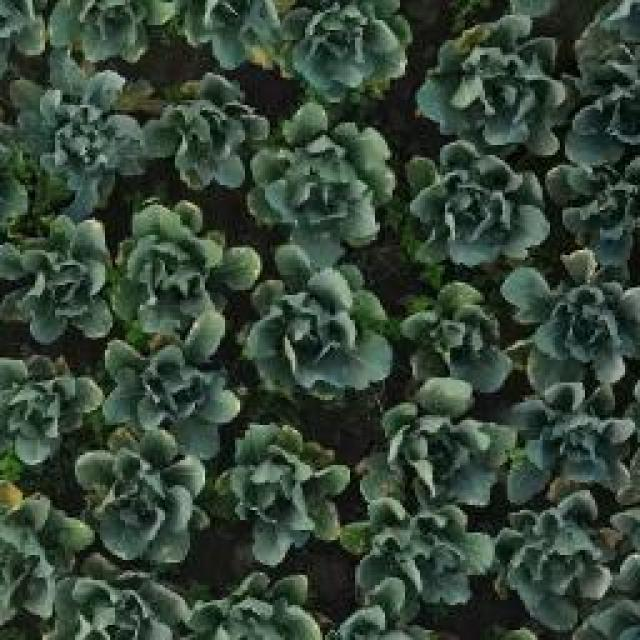cabbage: (250, 103, 396, 250), (5, 47, 144, 200), (358, 379, 514, 513), (71, 427, 211, 569), (497, 255, 640, 392), (108, 199, 258, 329), (418, 11, 566, 142), (405, 136, 554, 266), (339, 498, 496, 614), (223, 418, 351, 559), (503, 376, 640, 507), (490, 489, 614, 632), (98, 312, 242, 429), (0, 210, 119, 342), (143, 68, 269, 192), (394, 275, 517, 402), (557, 84, 640, 272), (280, 0, 411, 103), (43, 564, 209, 640), (0, 346, 102, 463), (272, 279, 366, 368)
